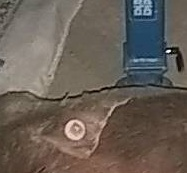text: (56, 111, 97, 149)
